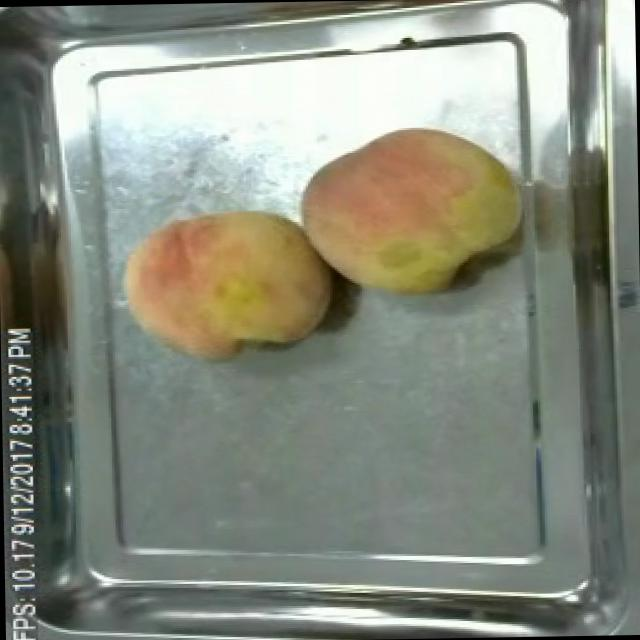Fruit: (297, 116, 528, 308), (112, 198, 346, 372)
